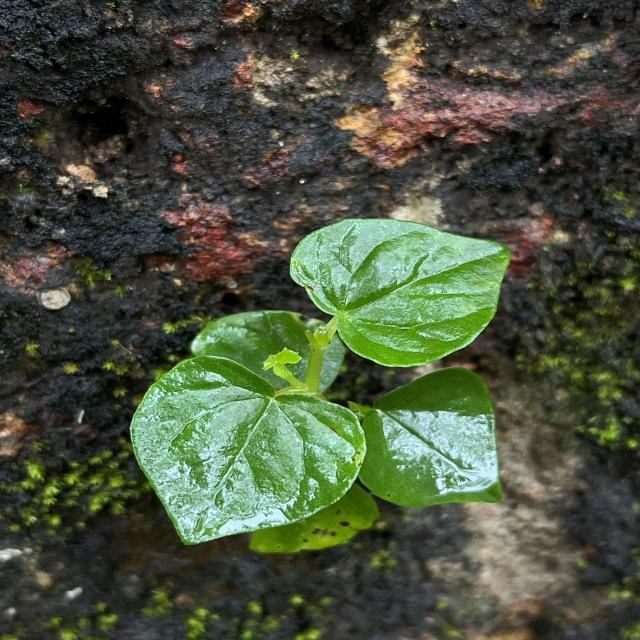Peperomia pellucida: (128, 354, 369, 548), (288, 216, 514, 369)
